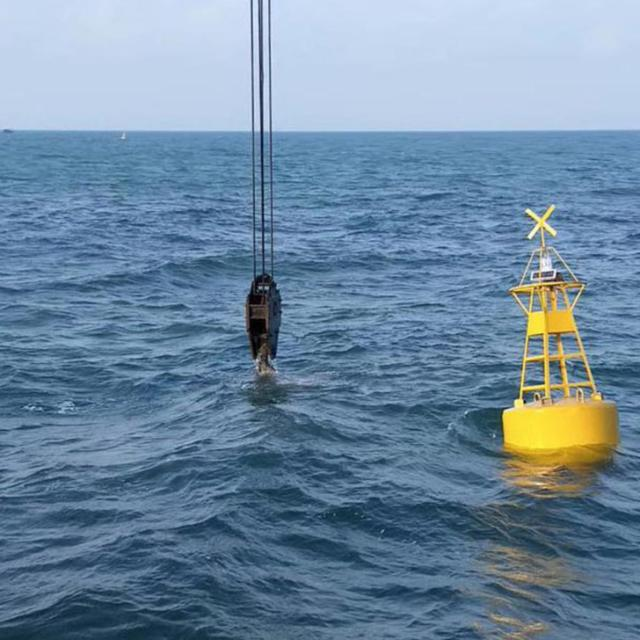buoy: (496, 202, 620, 458)
